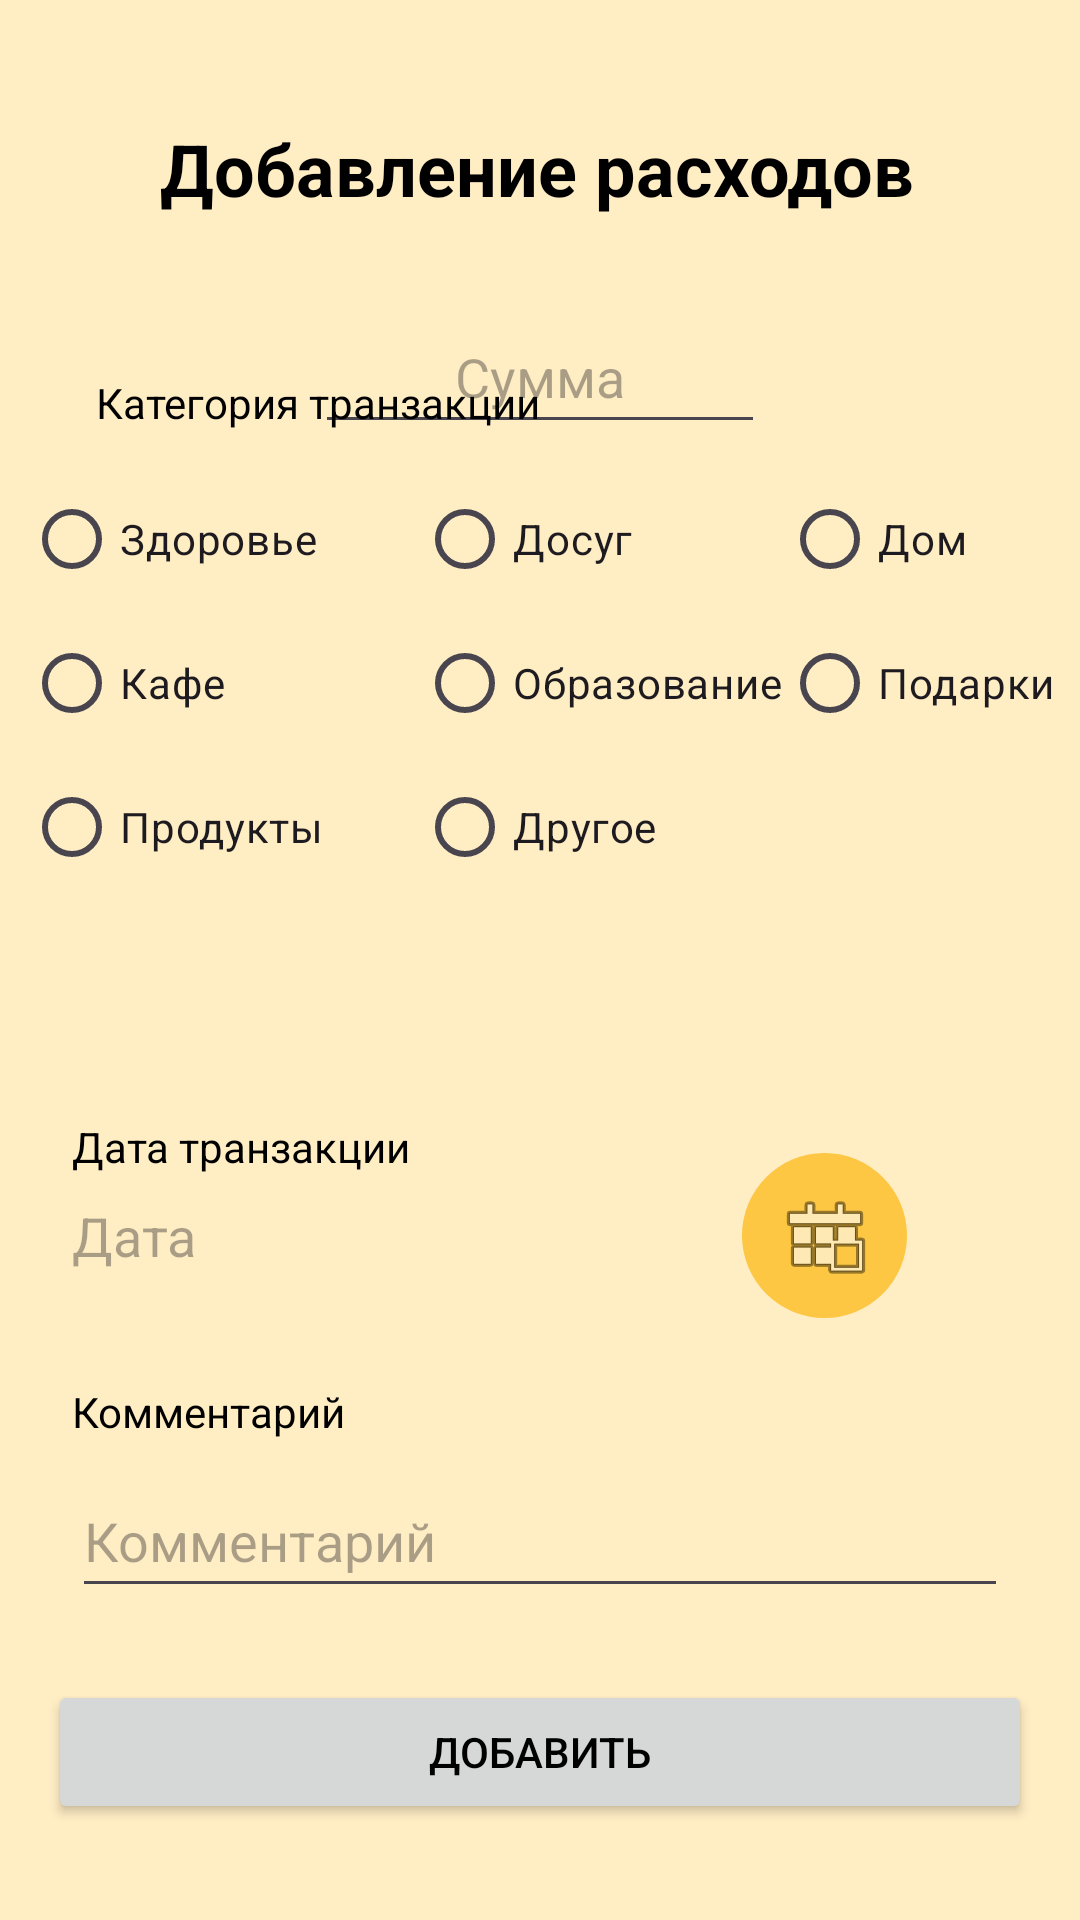

Named icons in this screenshot (1080*1920) and their centers, (x,y):
today: (824,1235)
